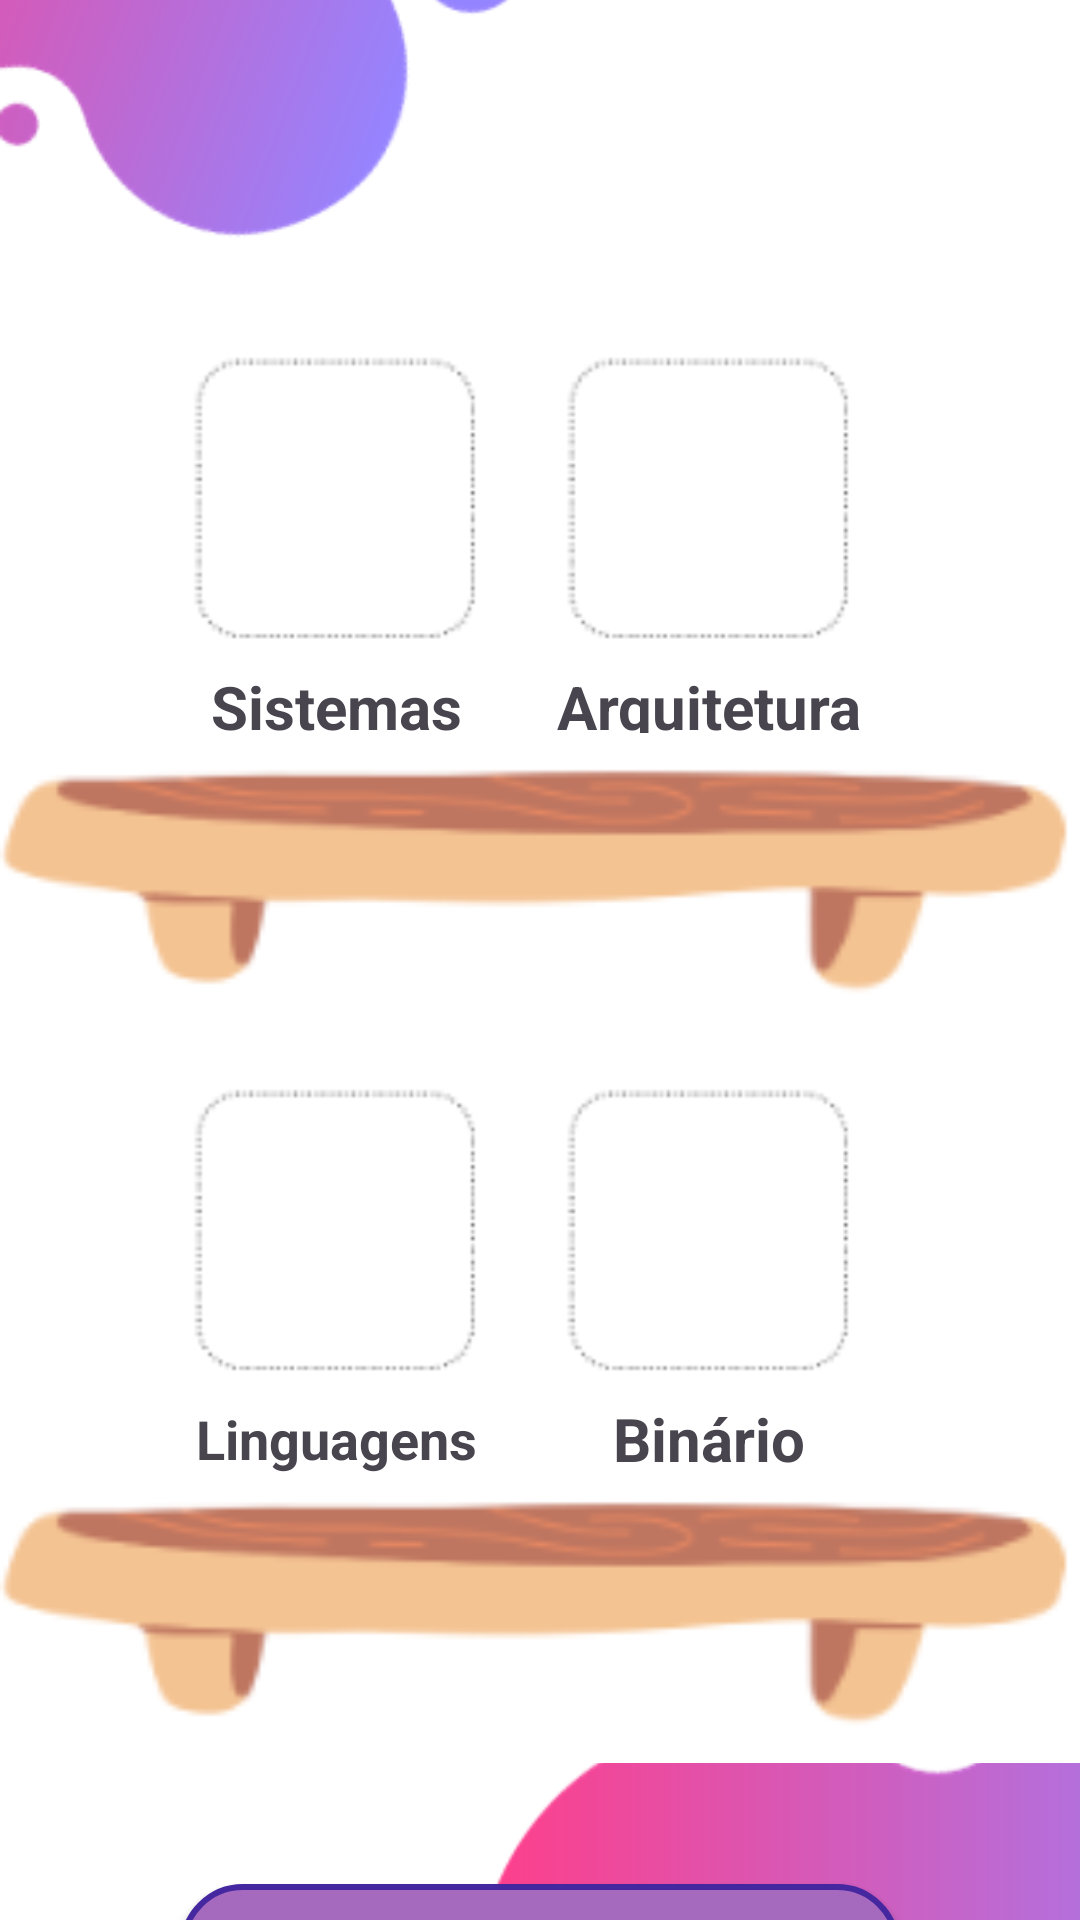

Named icons in this screenshot (1080x1920) and their bounding boxes, box(x1, y1, x2, y2):
pontilhado: box(195, 358, 476, 639), box(568, 358, 849, 639), box(195, 1090, 476, 1371), box(568, 1090, 849, 1371)
